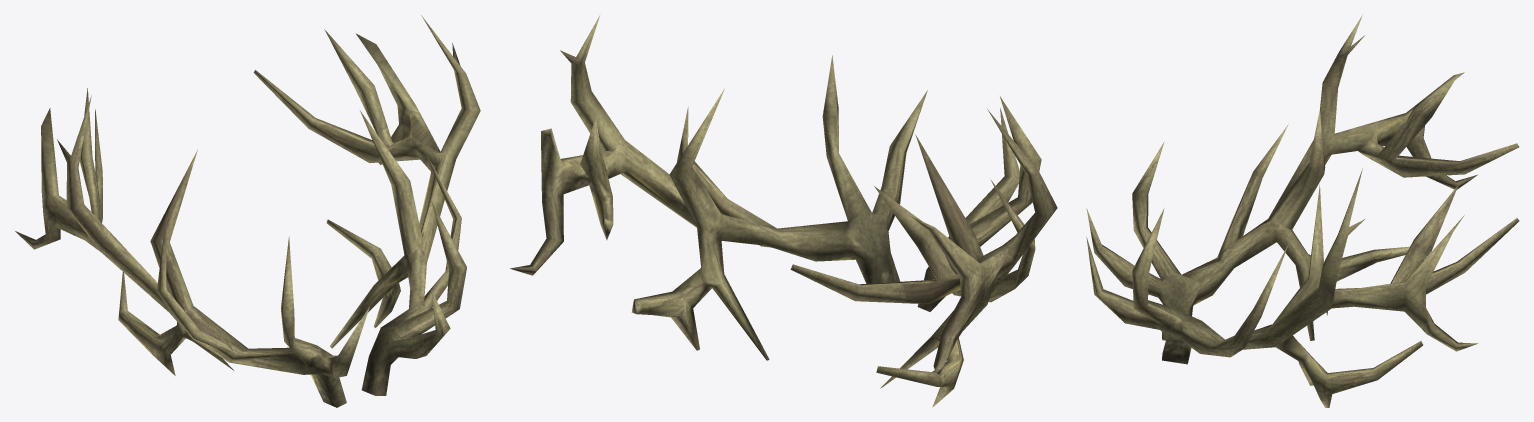
File: antlers_mid.glb
The picture shows the model from 3 angles, left to right: view 1: azimuth 30°, elevation 25°; view 2: azimuth 150°, elevation 25°; view 3: azimuth 270°, elevation 25°; orthographic projection. The views are drawn at different scales.
Parts seen in each view (by area): view 1: deer-antlers.jpg__; view 2: deer-antlers.jpg__; view 3: deer-antlers.jpg__.
Part boxes in pixels (<box>): deer-antlers.jpg__: <box>15,15,480,407</box>; deer-antlers.jpg__: <box>510,15,1057,407</box>; deer-antlers.jpg__: <box>1086,14,1519,407</box>.
Bounding box in the file's own units: 3.28 × 2.2 × 3.17.
Materials: 1 (1 with a texture image).
